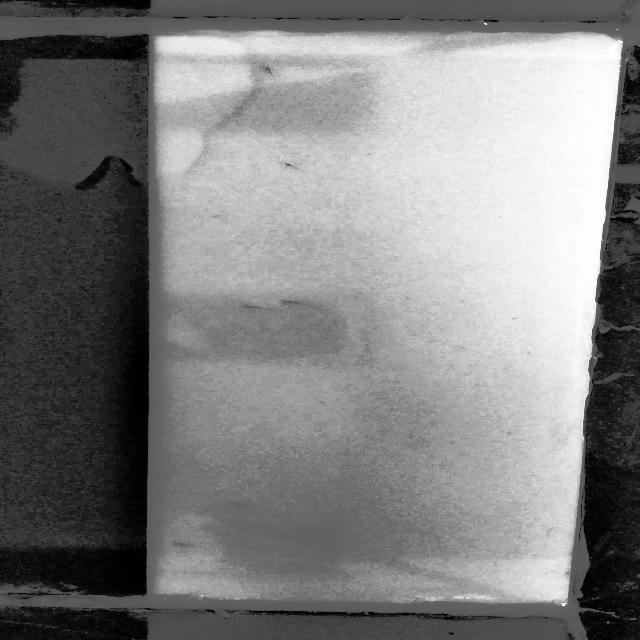shrimp: (273, 296, 306, 307), (262, 60, 276, 76), (172, 540, 194, 550), (280, 160, 298, 170), (242, 304, 262, 312), (228, 502, 252, 507)
